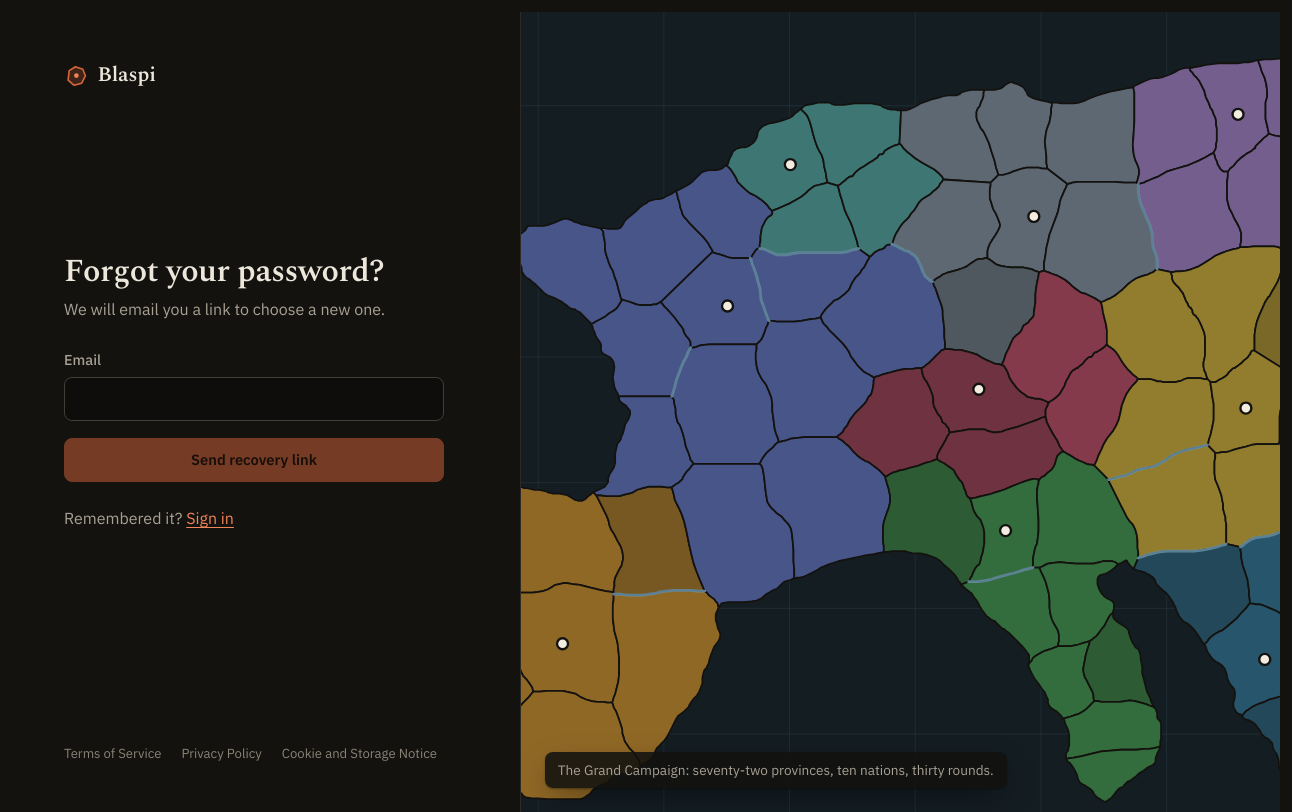
it: ForgotPasswordPage › shows a throttling error
Type "queen@reach.test" into the field labelled "Email". click: (254, 399)
box: [64, 377, 444, 421]
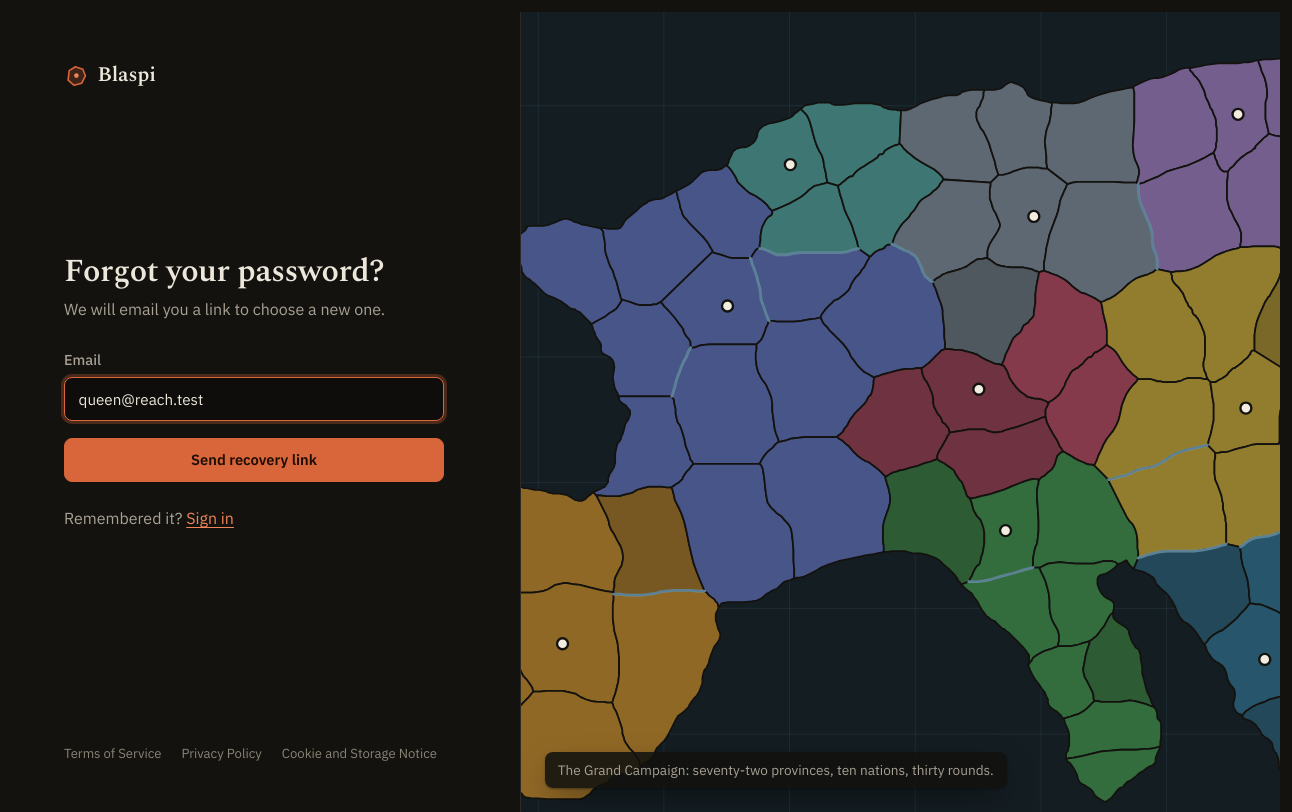
Click the button "Send recovery link". click: (254, 460)
box: [64, 438, 444, 482]
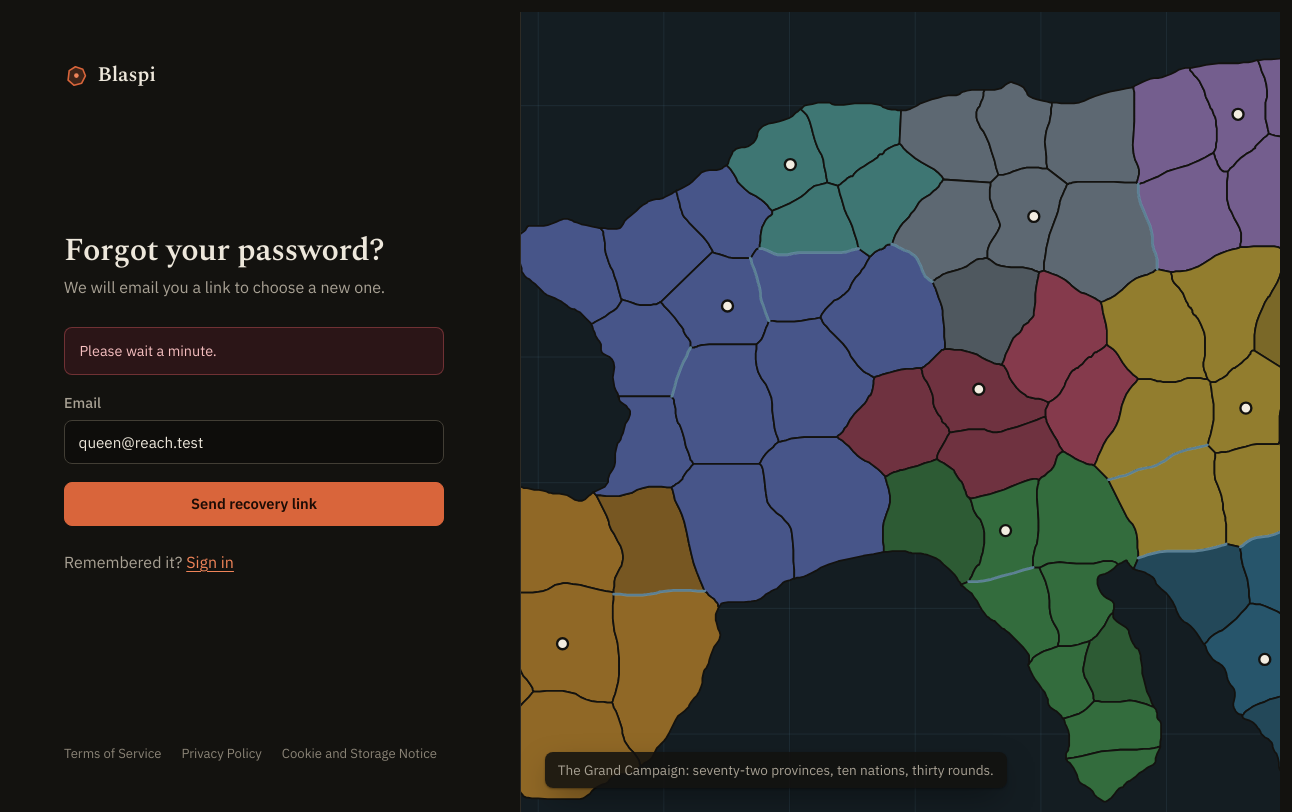
Expected: the message reads "Please wait a minute.", [79, 341, 217, 360]
